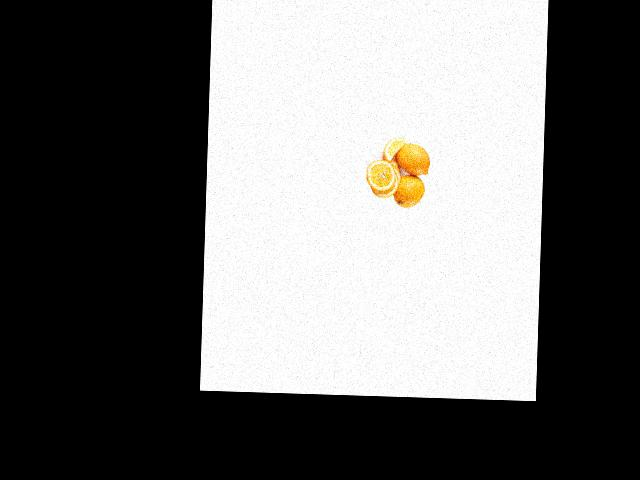lemon: (394, 171, 425, 207)
